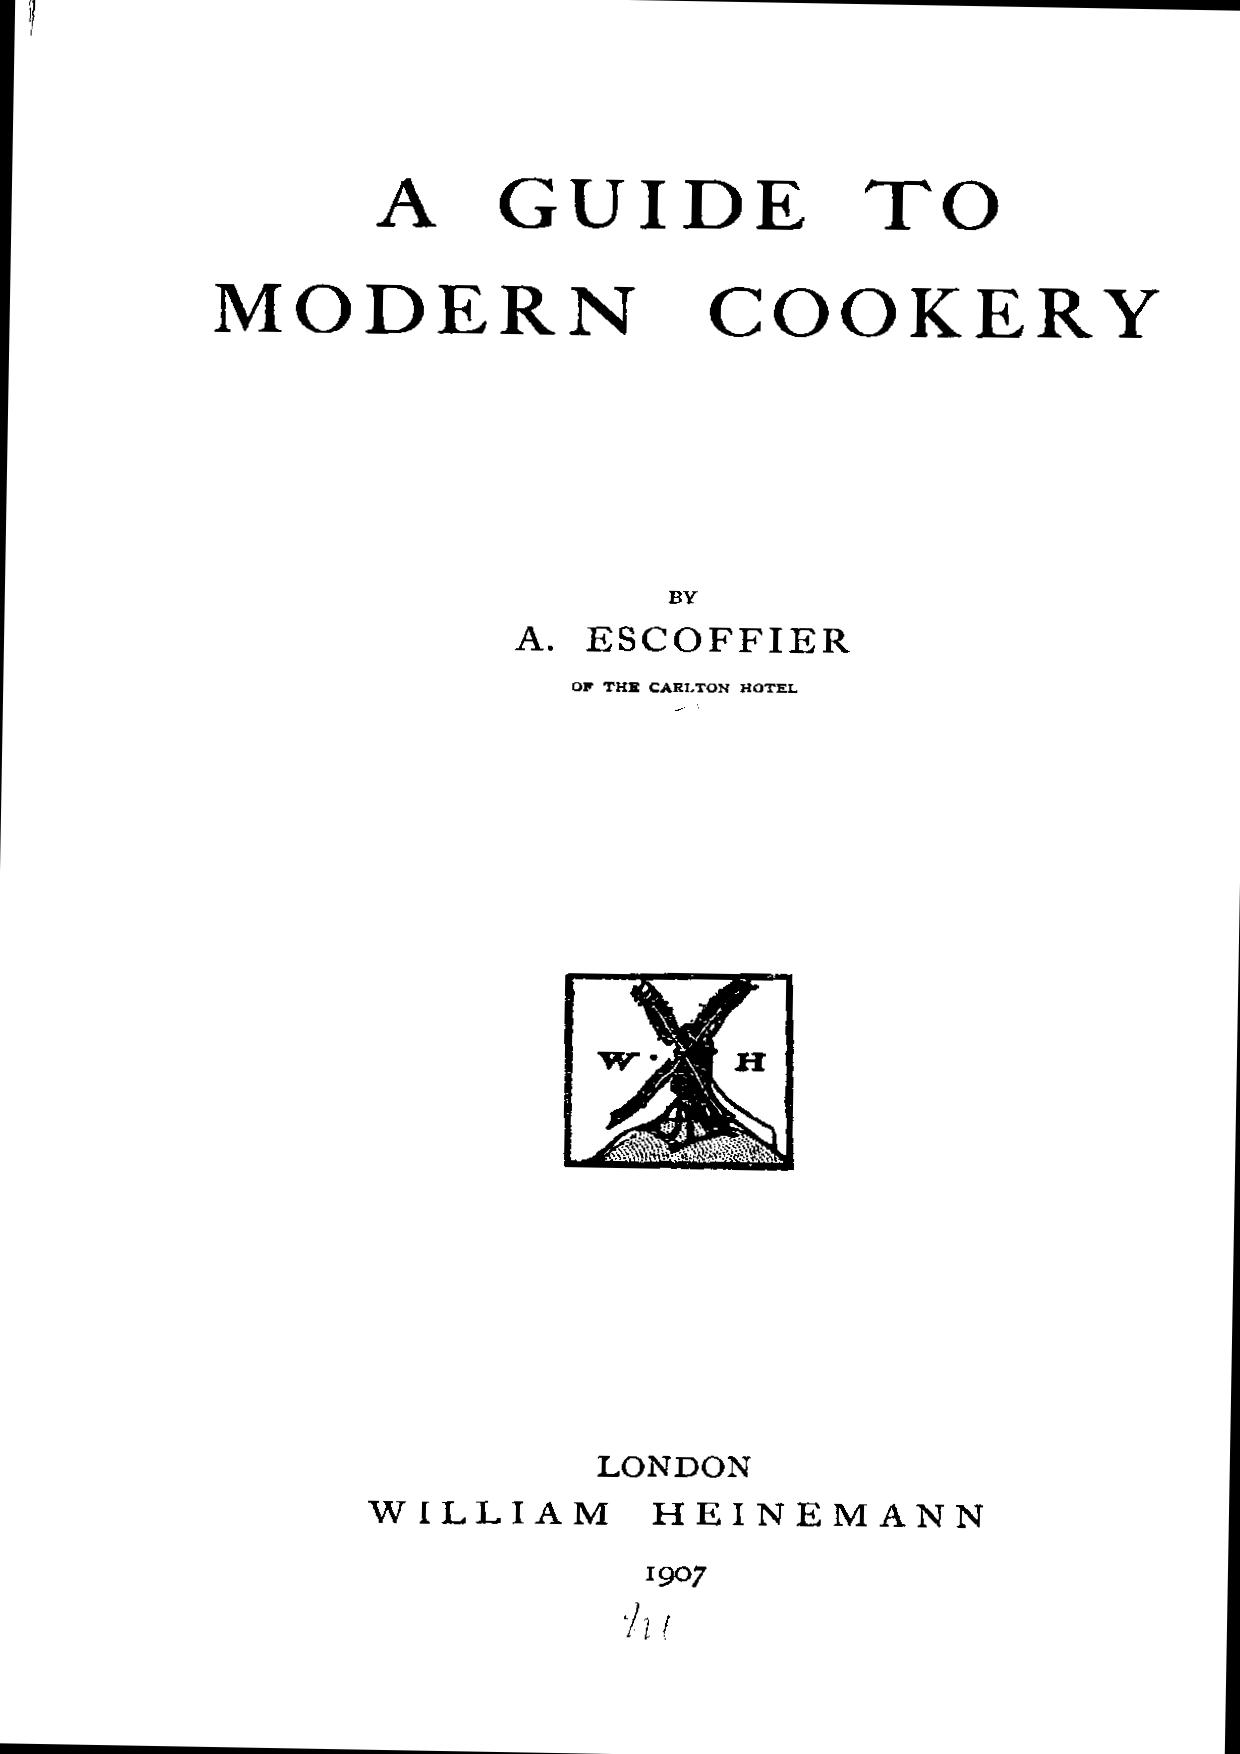author: (513, 586, 849, 656)
title: (205, 174, 1159, 341)
